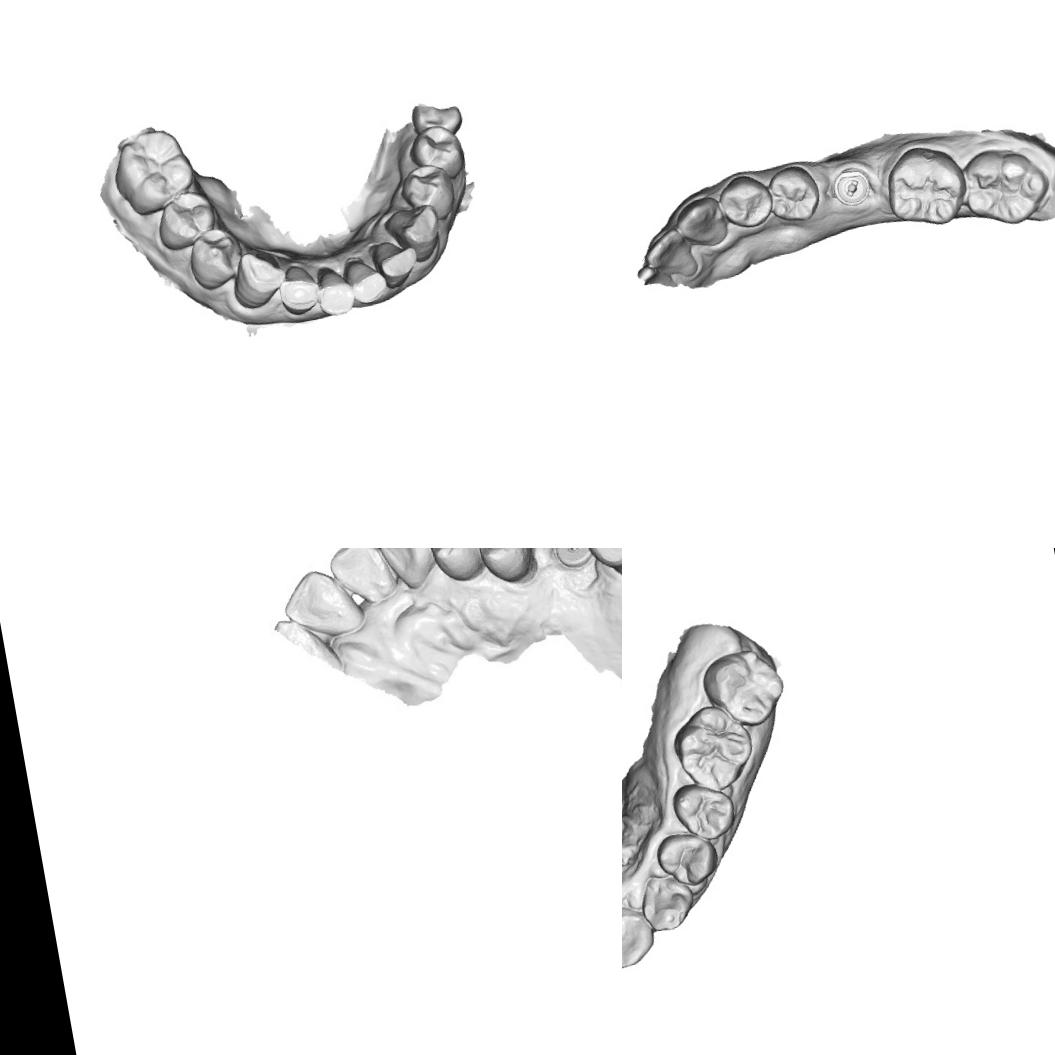canine: (224, 244, 288, 314), (382, 200, 446, 268), (636, 868, 698, 934), (370, 548, 446, 599), (671, 192, 730, 252)
implant: (554, 548, 593, 568)
implant_minus: (827, 162, 873, 210)
incisor: (277, 558, 372, 644), (324, 548, 401, 614), (638, 224, 700, 284), (368, 234, 422, 292), (340, 248, 392, 308), (311, 258, 360, 321), (271, 260, 322, 320), (622, 900, 659, 971)
molar: (105, 122, 202, 221), (956, 138, 1055, 232), (666, 698, 759, 797), (879, 138, 972, 233), (697, 641, 790, 733)
premolar: (668, 776, 739, 846), (150, 185, 220, 254), (652, 826, 722, 891), (183, 222, 246, 294), (394, 159, 460, 225), (402, 120, 468, 186), (762, 161, 824, 225), (714, 170, 776, 232), (470, 548, 537, 589), (425, 548, 488, 586)
